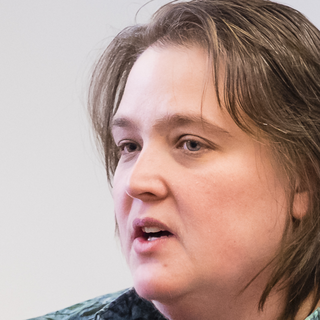eye: (167, 131, 216, 157), (113, 133, 149, 161)
